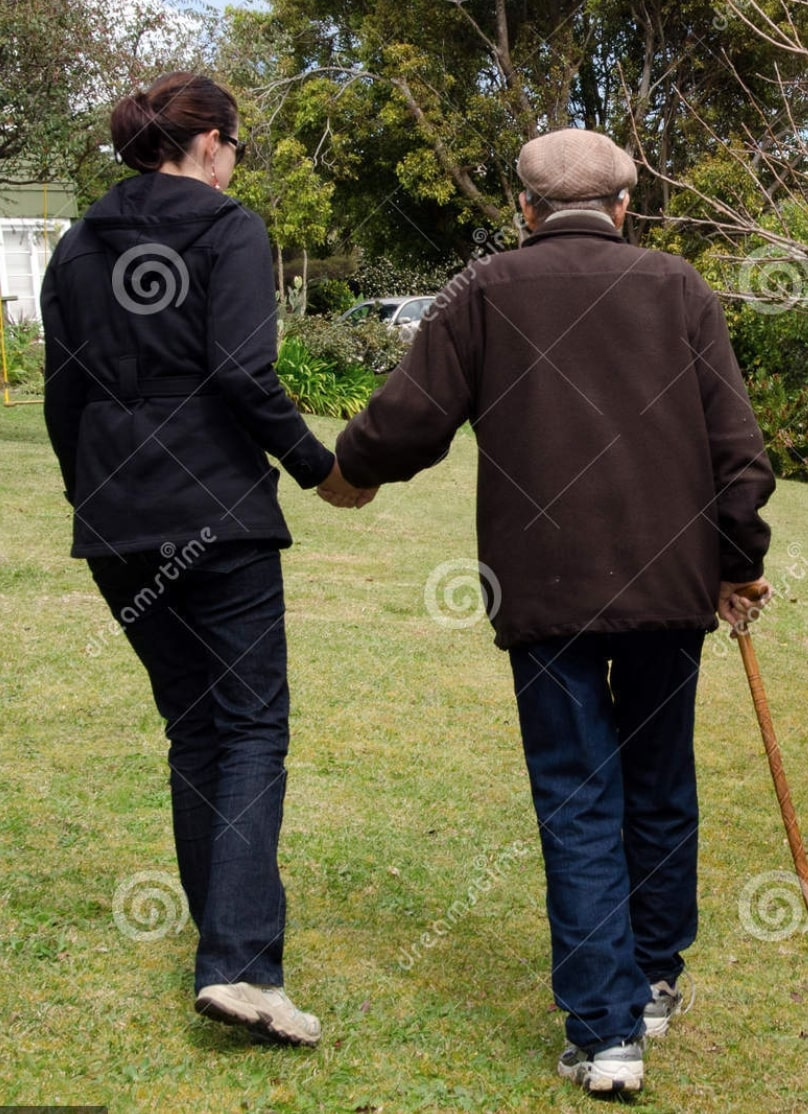Bad: (36, 73, 772, 1099)
